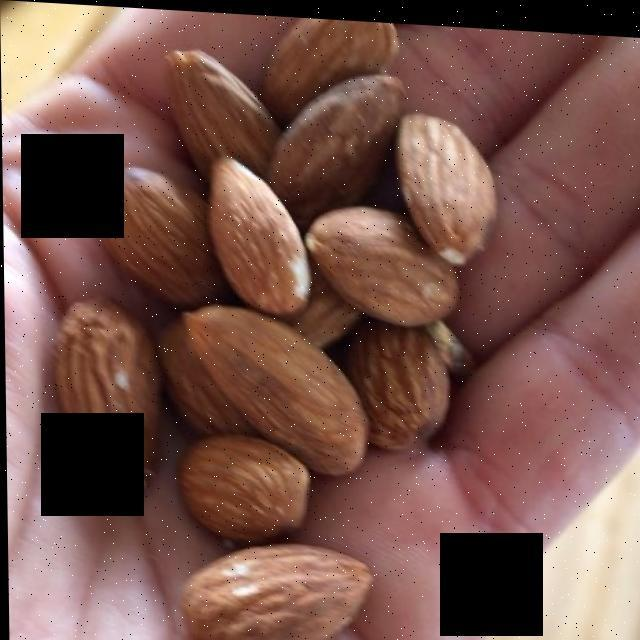almonds: (54, 32, 488, 607)
